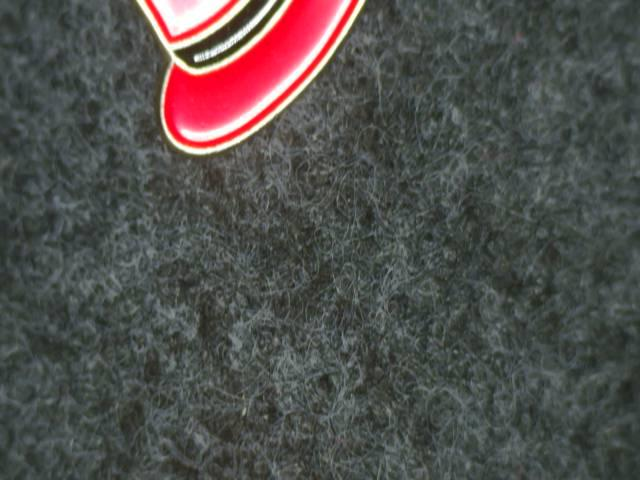Red-Hat: (124, 0, 398, 196)
